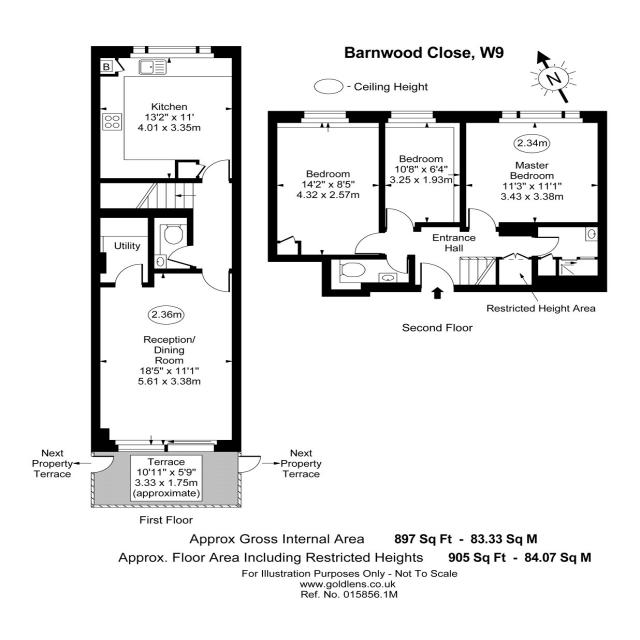DOOR: (419, 262, 455, 292), (467, 207, 497, 232), (201, 268, 231, 293), (114, 263, 144, 287), (201, 159, 231, 183), (354, 232, 385, 255), (385, 208, 414, 232), (166, 245, 196, 267), (531, 236, 560, 257), (386, 255, 408, 274)
ROOM: (91, 263, 242, 452), (91, 46, 242, 183), (459, 111, 608, 232), (267, 111, 385, 262), (378, 111, 467, 232)
WINDOW: (130, 46, 215, 58), (499, 111, 583, 123), (388, 111, 437, 123), (301, 111, 350, 123)
